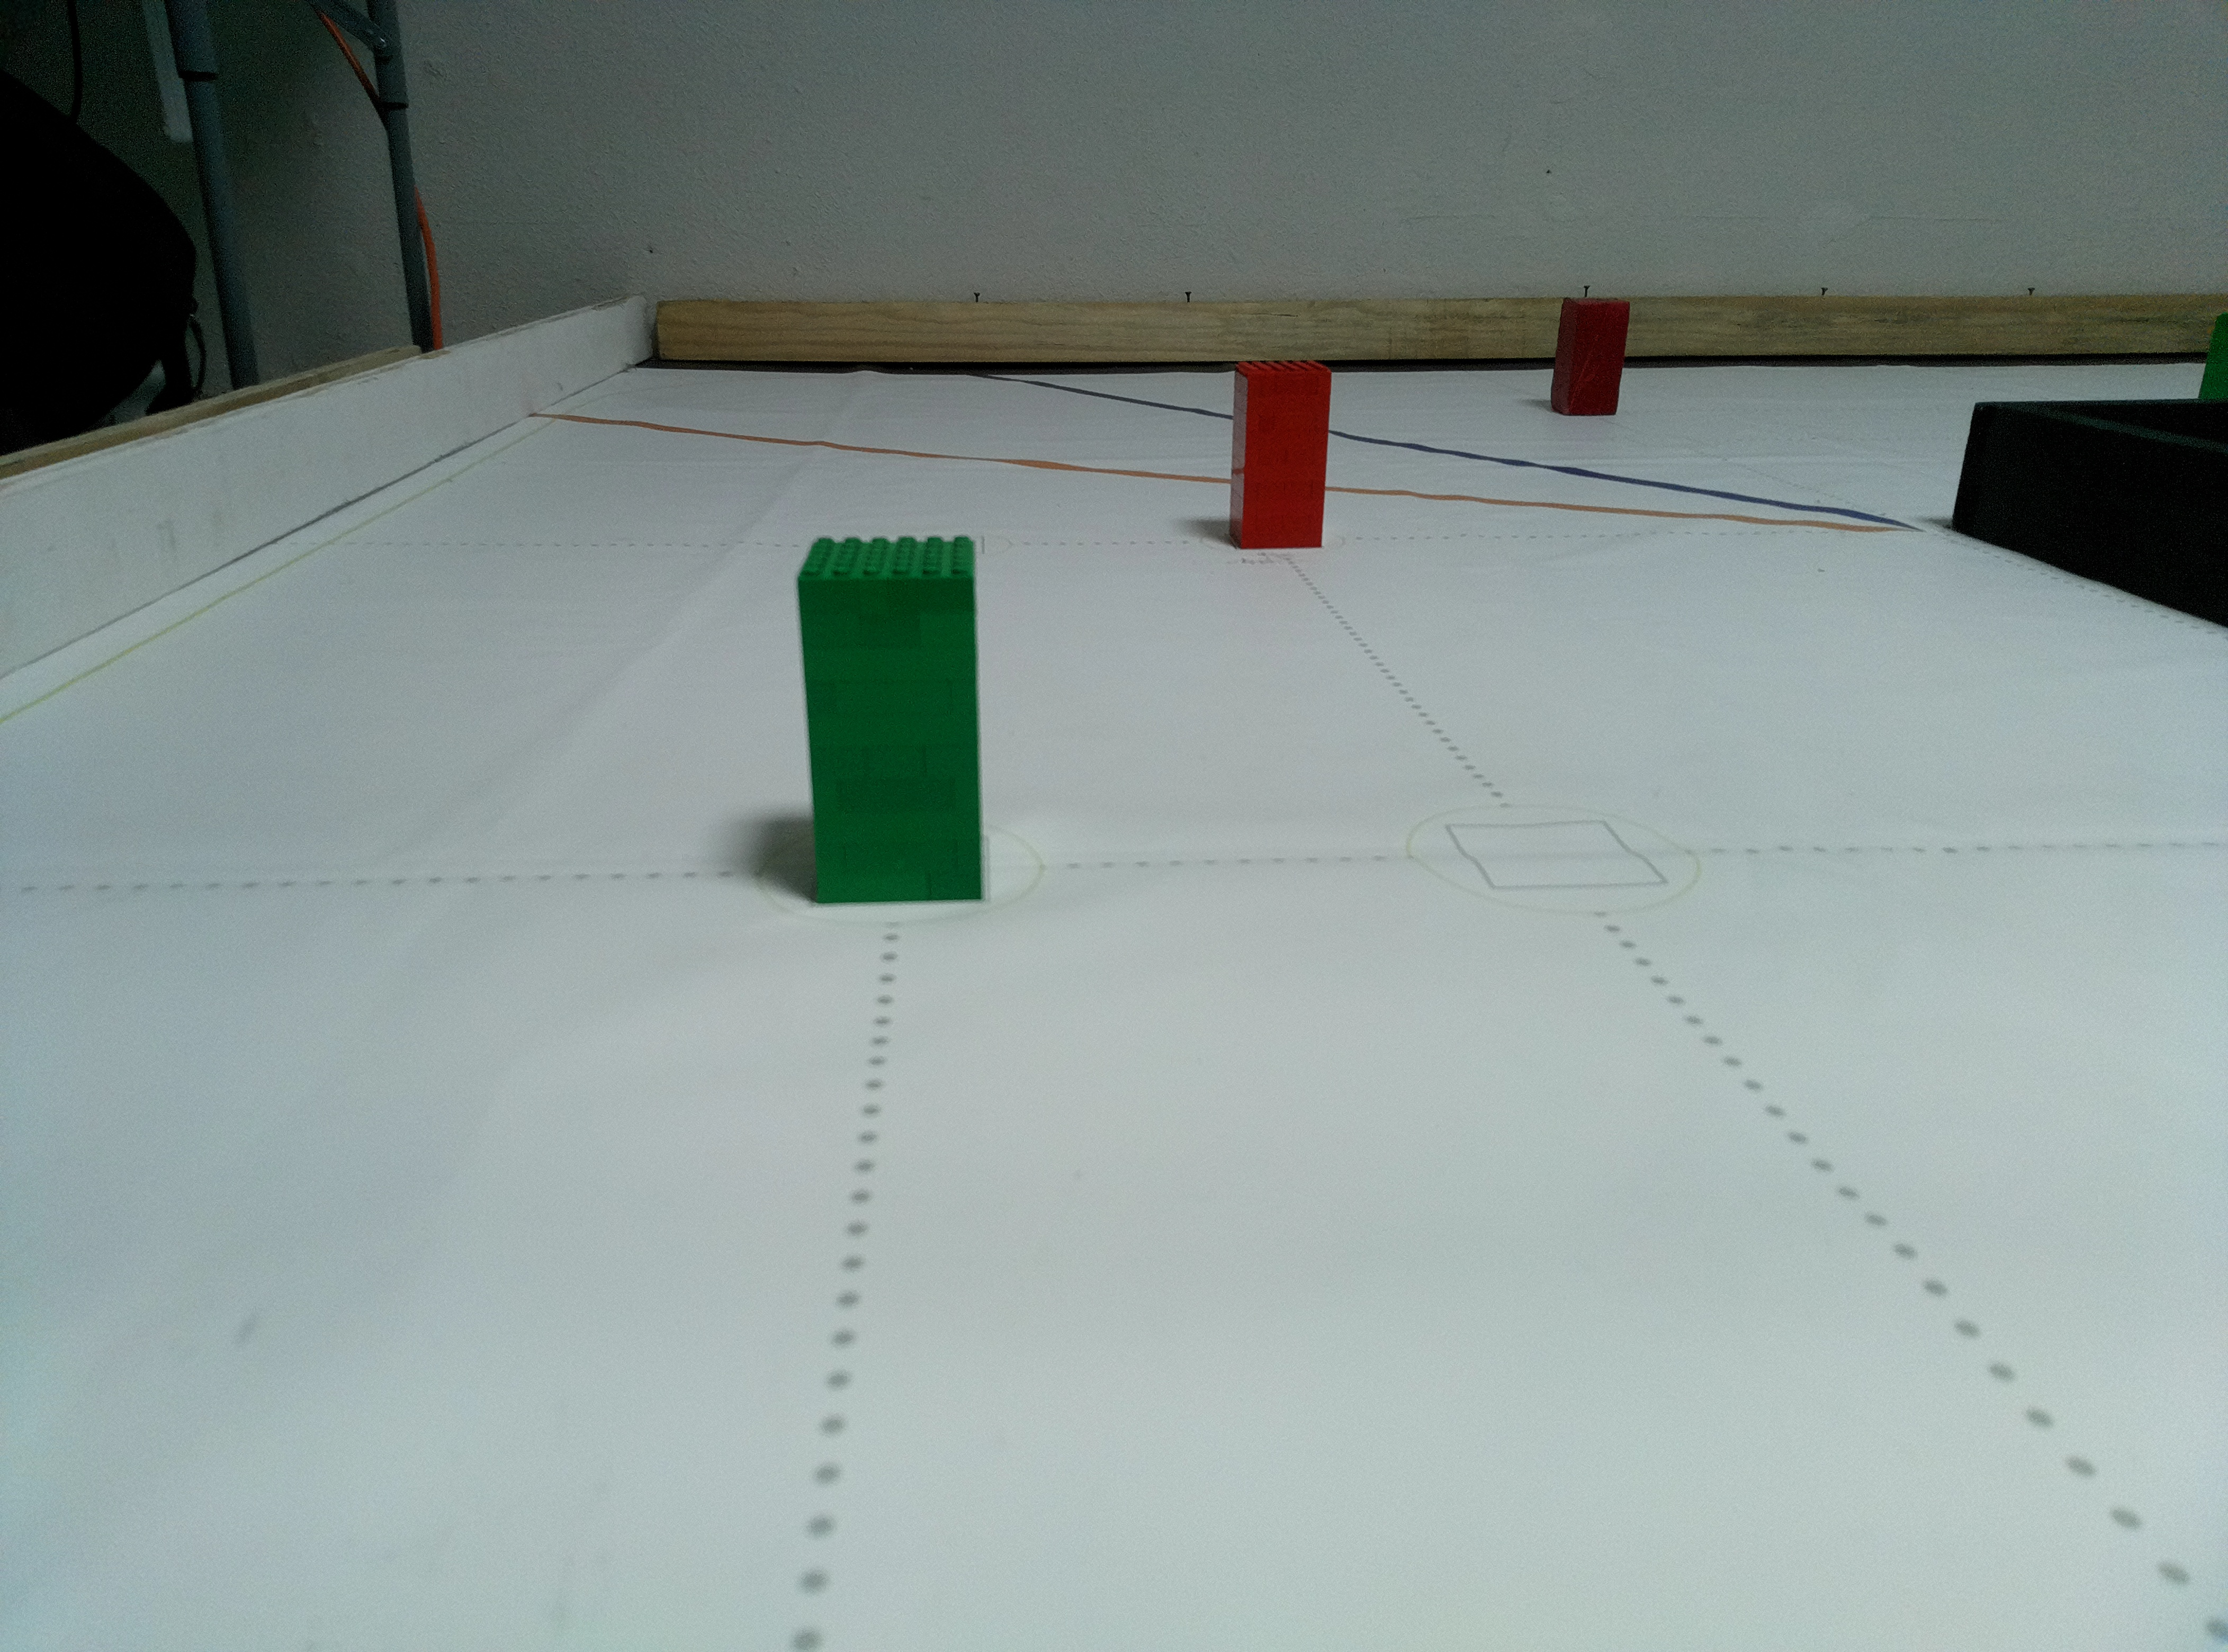greenbox: (791, 533, 994, 906)
redbox: (1230, 359, 1333, 550), (1551, 297, 1631, 418)
